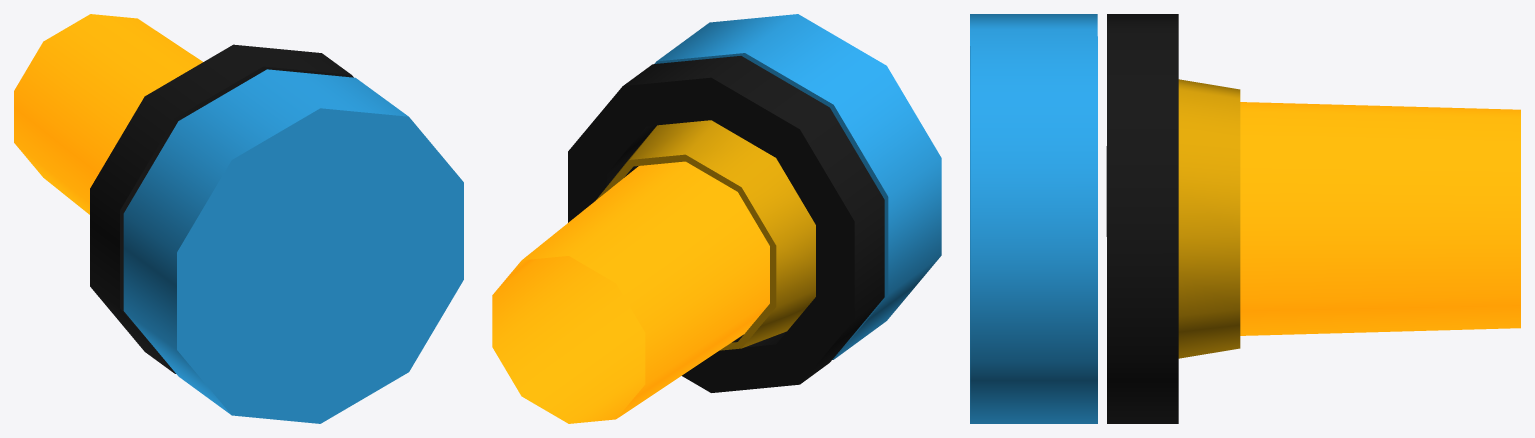
Rendered from boost.glb.
3 views of the same model, side by side, from view 1: azimuth 30°, elevation 25°; view 2: azimuth 150°, elevation 25°; view 3: azimuth 270°, elevation 25° (orthographic). The views are drawn at different scales.
Parts seen in each view (by area): view 1: boost.001, boost-part.005; view 2: boost.001, boost-part.005; view 3: boost.001, boost-part.005.
Part boxes in pixels (box(x1,y1,x2,y2)): boost.001: box(90, 44, 463, 423); boost-part.005: box(14, 14, 202, 214); boost.001: box(568, 14, 941, 392); boost-part.005: box(492, 161, 769, 423); boost.001: box(970, 14, 1240, 423); boost-part.005: box(1240, 102, 1520, 335).
Bounding box in the file's own units: 0.1201 × 0.1262 × 0.1665.
